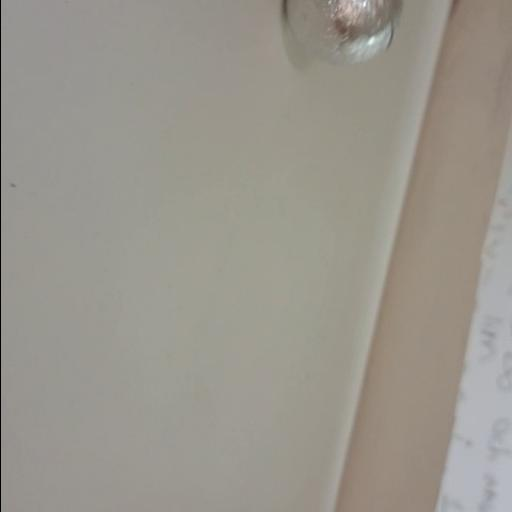alive: (284, 0, 404, 69)
